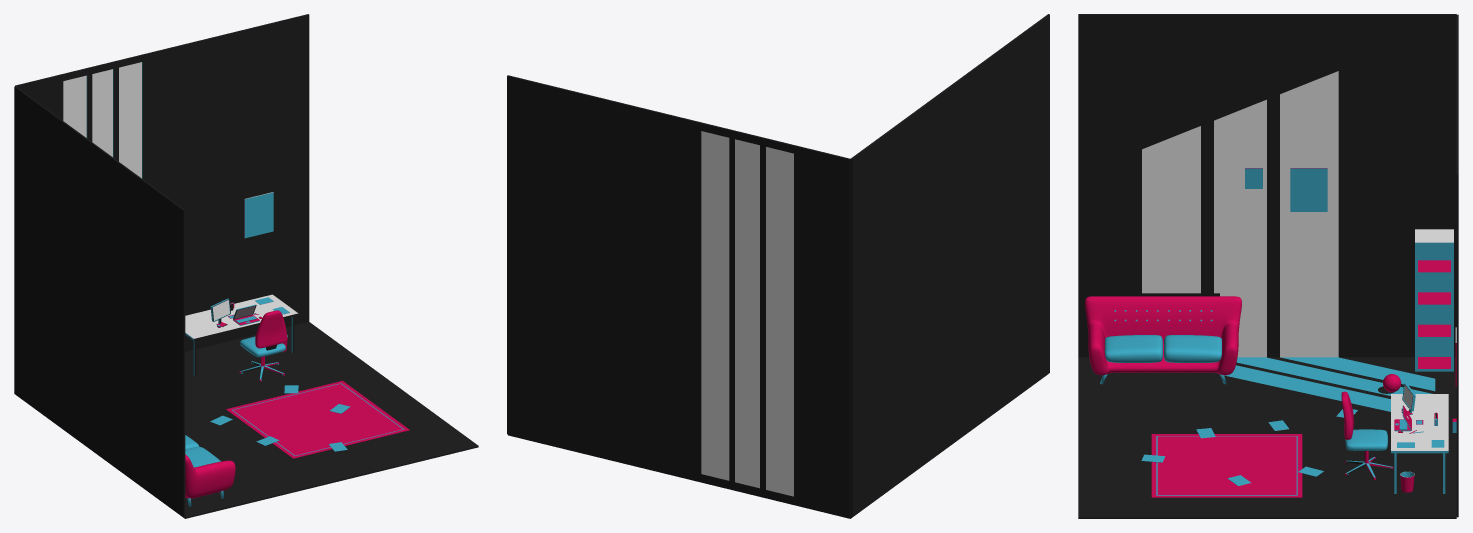
The model's file is AbstractRoom.fbx.
3 views of the same model, side by side, from view 1: azimuth 30°, elevation 25°; view 2: azimuth 150°, elevation 25°; view 3: azimuth 270°, elevation 25° (orthographic). The views are drawn at different scales.
Parts seen in each view (by area): view 1: Cube.004, Cube, Cube.012, Plane, Circle, Plane.003, Plane.008; view 2: Cube.004; view 3: Cube.004, Cube.012, Cube, Cube.011, Plane, Plane.003, Circle, Plane.008.
Part boxes in pixels (<box>): Cube.004: <box>14,14,478,518</box>; Cube: <box>226,380,410,458</box>; Cube.012: <box>185,435,235,506</box>; Plane: <box>185,294,298,340</box>; Circle: <box>239,310,286,381</box>; Plane.003: <box>244,192,273,238</box>; Plane.008: <box>210,385,350,451</box>; Cube.004: <box>507,14,1049,518</box>; Cube.004: <box>1078,14,1458,518</box>; Cube.012: <box>1085,296,1241,384</box>; Cube: <box>1151,434,1302,497</box>; Cube.011: <box>1415,229,1453,371</box>; Plane: <box>1391,394,1448,453</box>; Plane.003: <box>1245,168,1456,386</box>; Circle: <box>1341,391,1393,480</box>; Plane.008: <box>1141,409,1357,486</box>.
Size of the model in its own units: 201 by 201 by 201.
